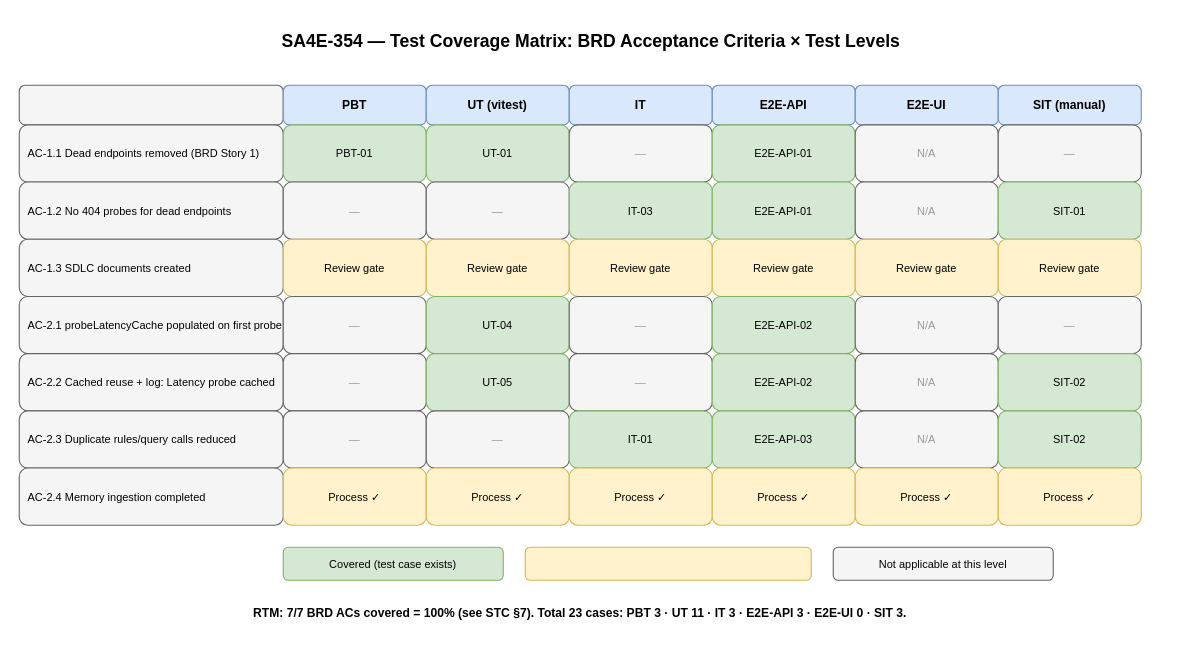
Image size: 1183x648. Some labels were removed from this diagram. The shapes that lost their labels are listed below. From the top down, each one's centre as x and y in pixels, then its label:
the point at 150,104: Requirement (BRD AC)
the point at 667,563: Process / review gate (not code-testable)
